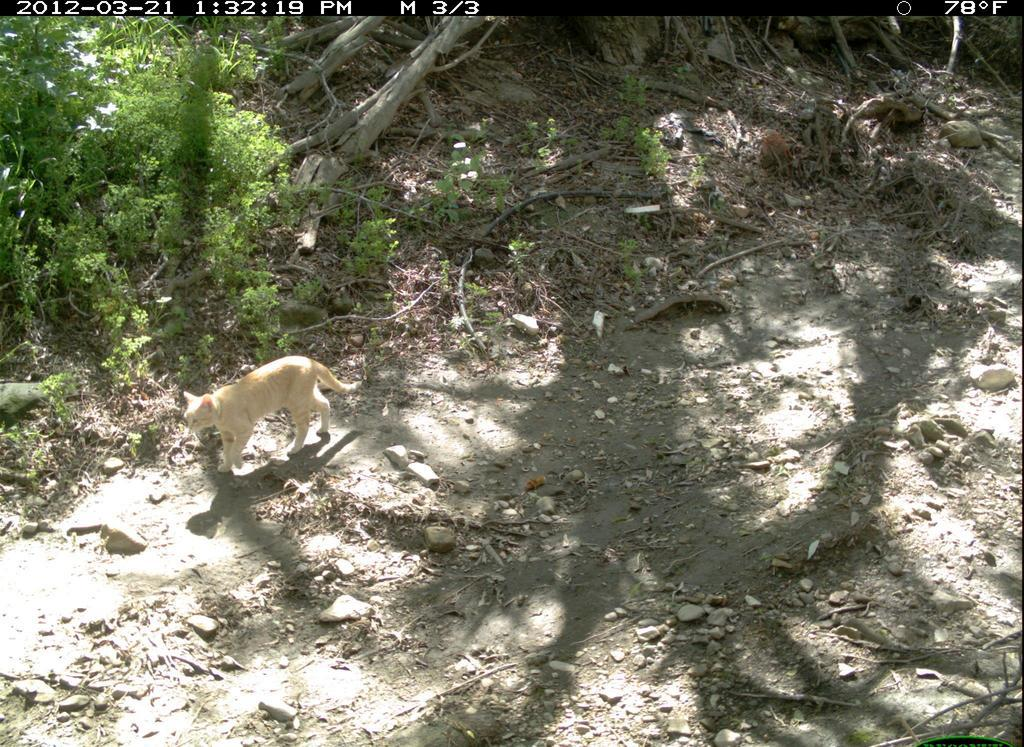cat: (181, 354, 355, 475)
